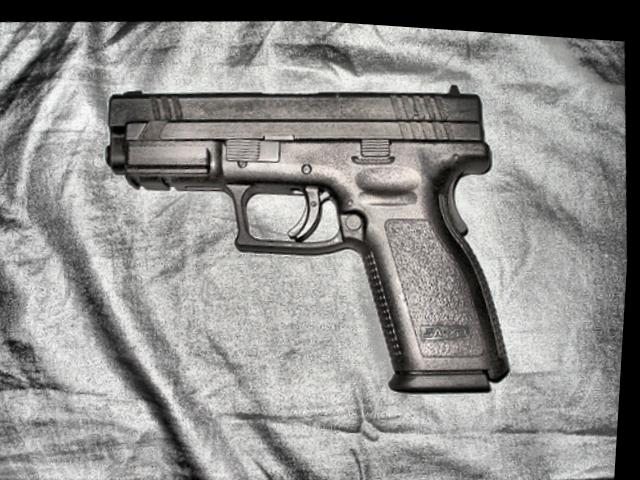pistol: (89, 54, 530, 414)
